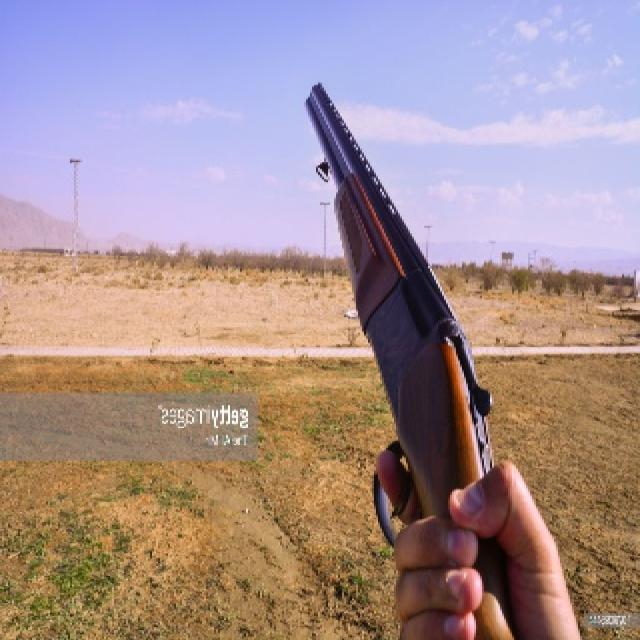rifle: (303, 78, 497, 536)
